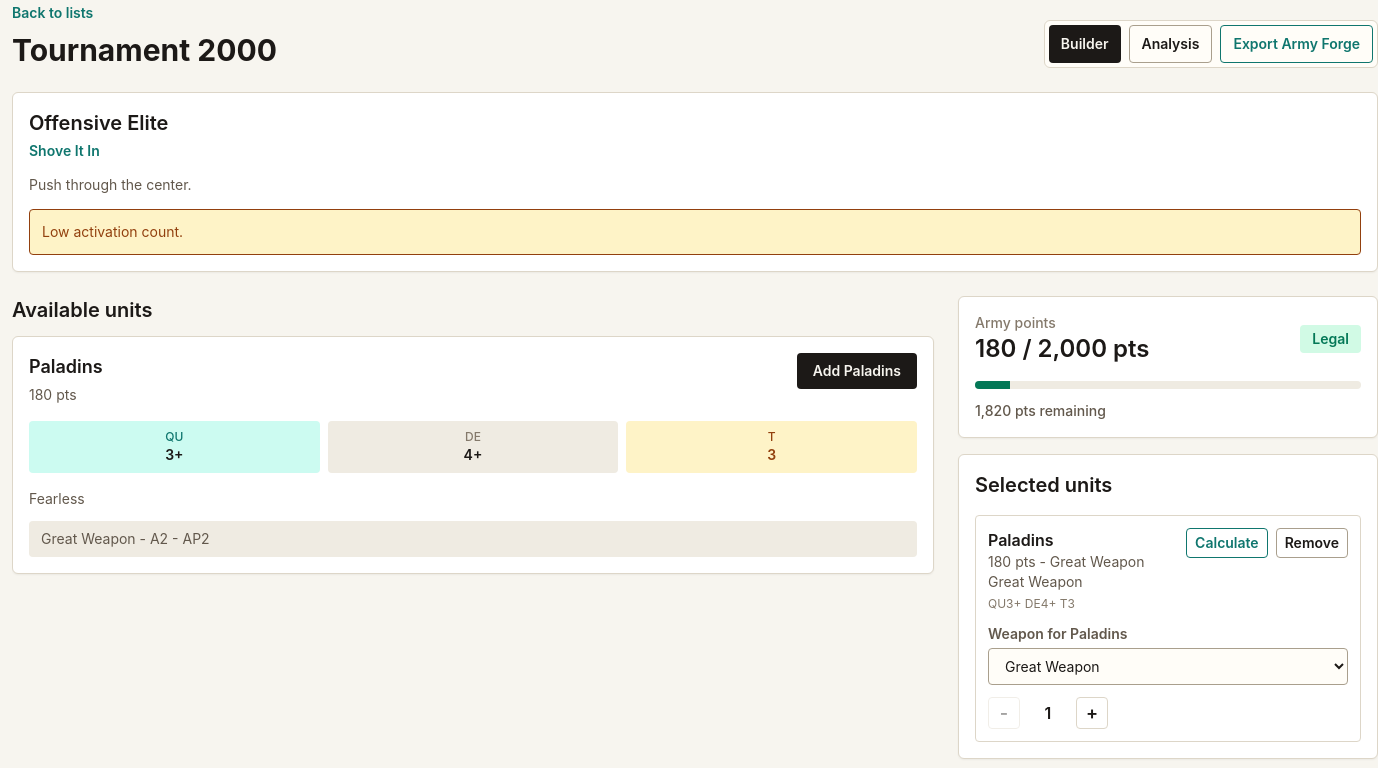
Test: ListBuilderPage › updates selected weapon upgrades from the list row
Expected: the heading "Tournament 2000" is shown, [12,32,277,68]
Select "Blessed Great Weapon (+25 pts)" in the dropdown labelled "Weapon for Paladins" at x=1168, y=666, box [988,648,1348,685]
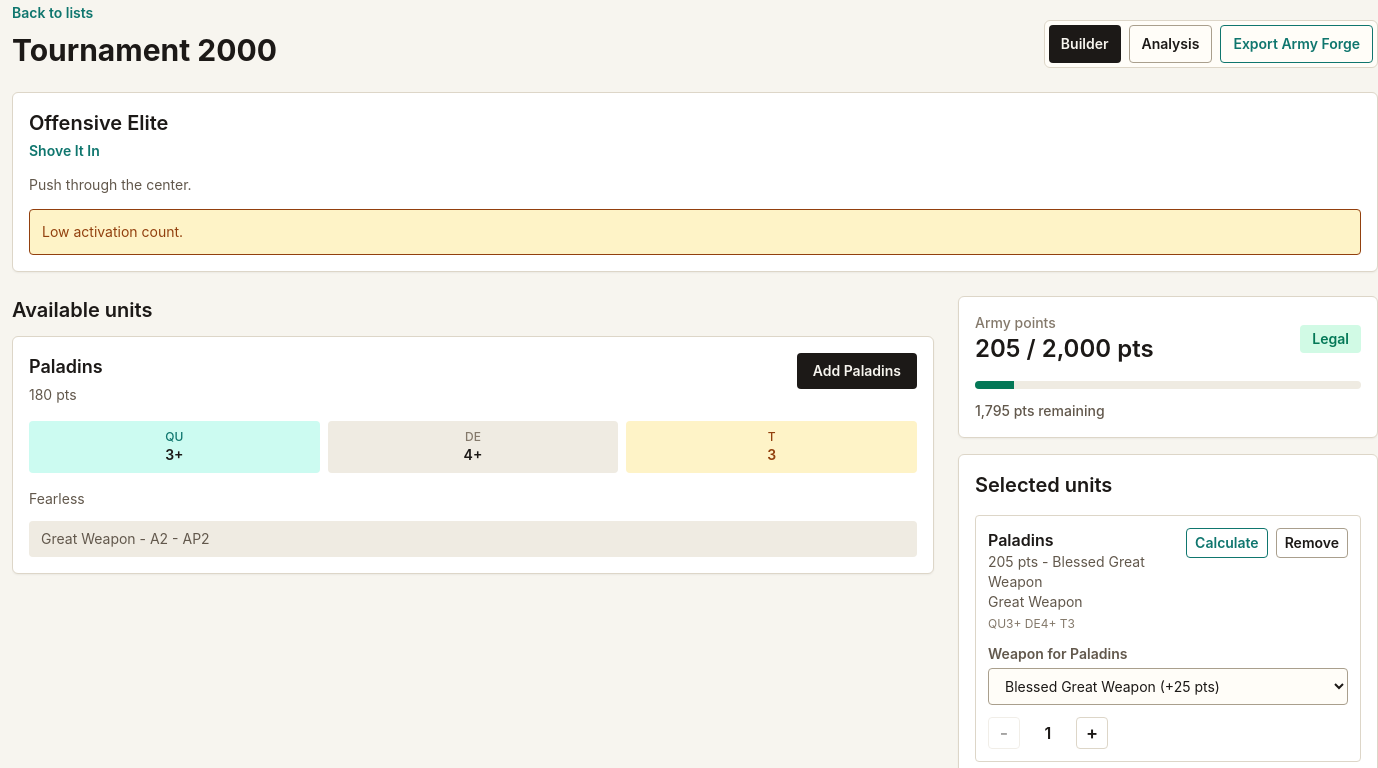
Expected: the text "205 / 2,000 pts" is shown, [975,333,1154,365]
